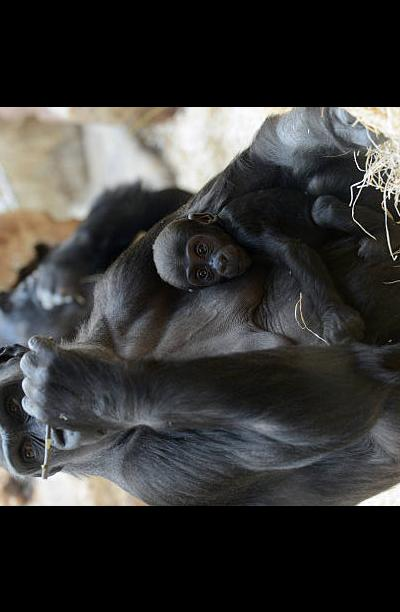gorille_Autres: (0, 204, 400, 501)
